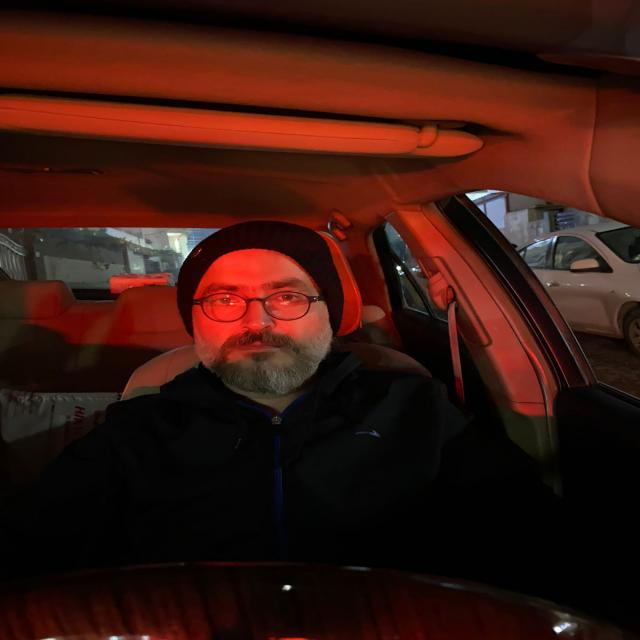person: (167, 213, 359, 412)
